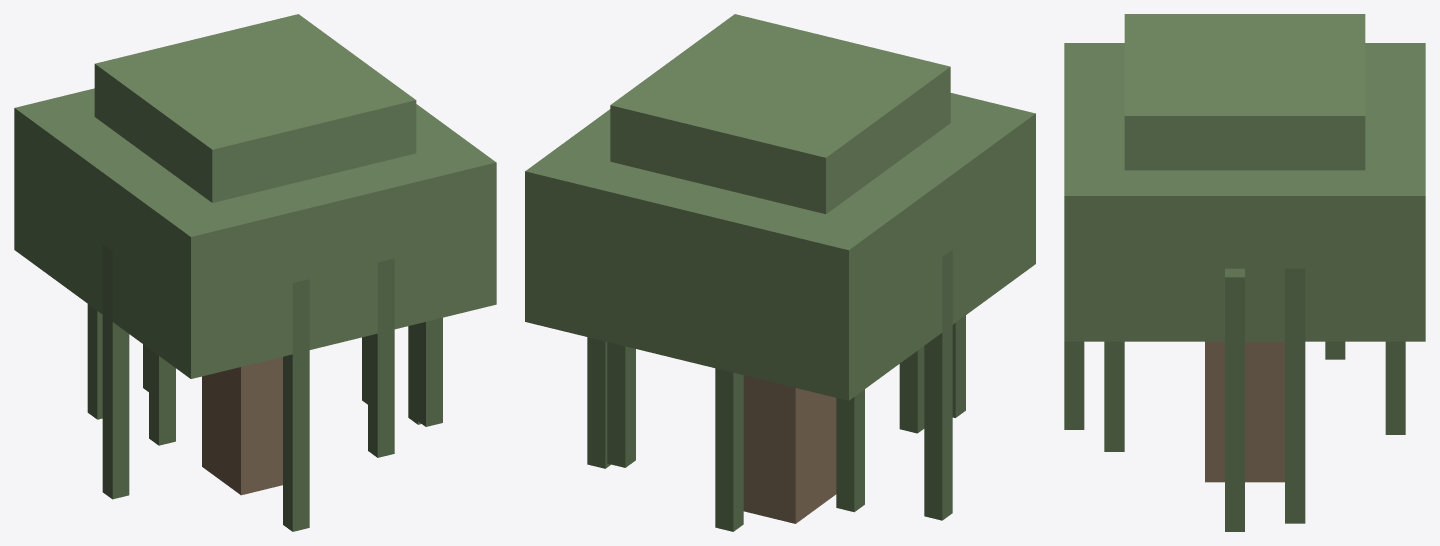
Rendered from sauce_lloron_05.glb.
3 renders of one model, left to right at view 1: azimuth 30°, elevation 25°; view 2: azimuth 150°, elevation 25°; view 3: azimuth 270°, elevation 25°, orthographic. The views are drawn at different scales.
Visible parts, largest first — view 1: sauce_lloron_05; view 2: sauce_lloron_05; view 3: sauce_lloron_05.
Part boxes in pixels (left/top/right/bottom): sauce_lloron_05: left=14, top=14, right=496, bottom=531; sauce_lloron_05: left=525, top=14, right=1035, bottom=531; sauce_lloron_05: left=1064, top=14, right=1425, bottom=531.
Bounding box in the file's own units: 1.9 × 2.2 × 1.8.
